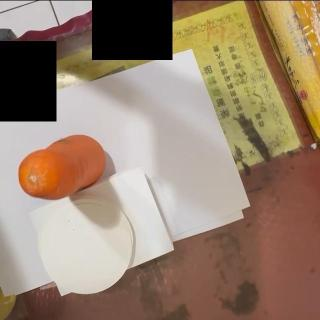carrot: (17, 133, 106, 201)
